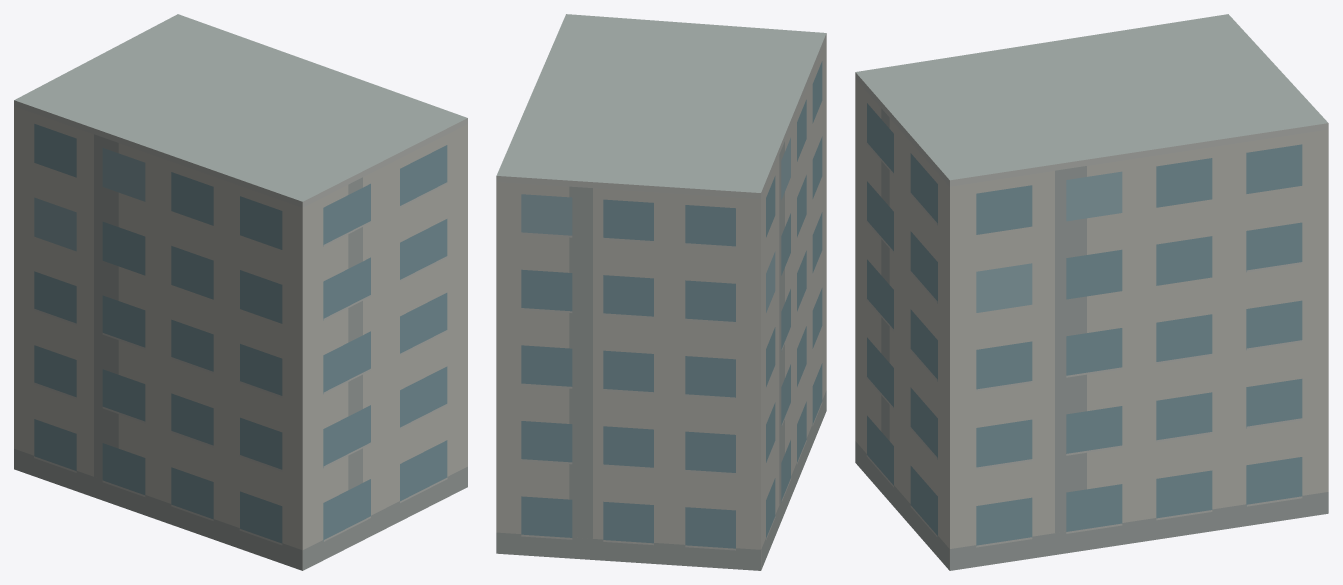
The model's file is survey-upis-32583852.glb.
3 renders of one model, left to right at view 1: azimuth 30°, elevation 25°; view 2: azimuth 150°, elevation 25°; view 3: azimuth 270°, elevation 25°, orthographic. The views are drawn at different scales.
Parts seen in each view (by area): view 1: survey-upis-32583852.tmp; view 2: survey-upis-32583852.tmp; view 3: survey-upis-32583852.tmp.
Boxes of the visible parts, <box> form: survey-upis-32583852.tmp: <box>14,14,467,570</box>; survey-upis-32583852.tmp: <box>496,14,826,570</box>; survey-upis-32583852.tmp: <box>855,14,1328,570</box>.
Size of the model in its own units: 13.94 by 15.25 by 16.76.
